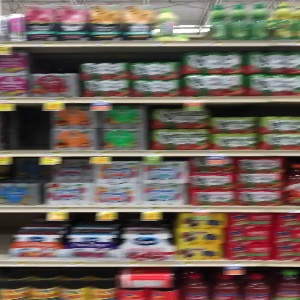void: (1, 101, 46, 155)
